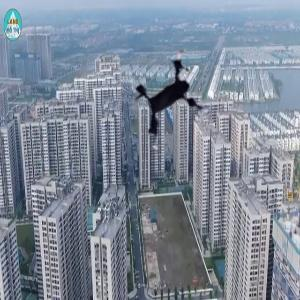drone: (117, 43, 238, 164)
